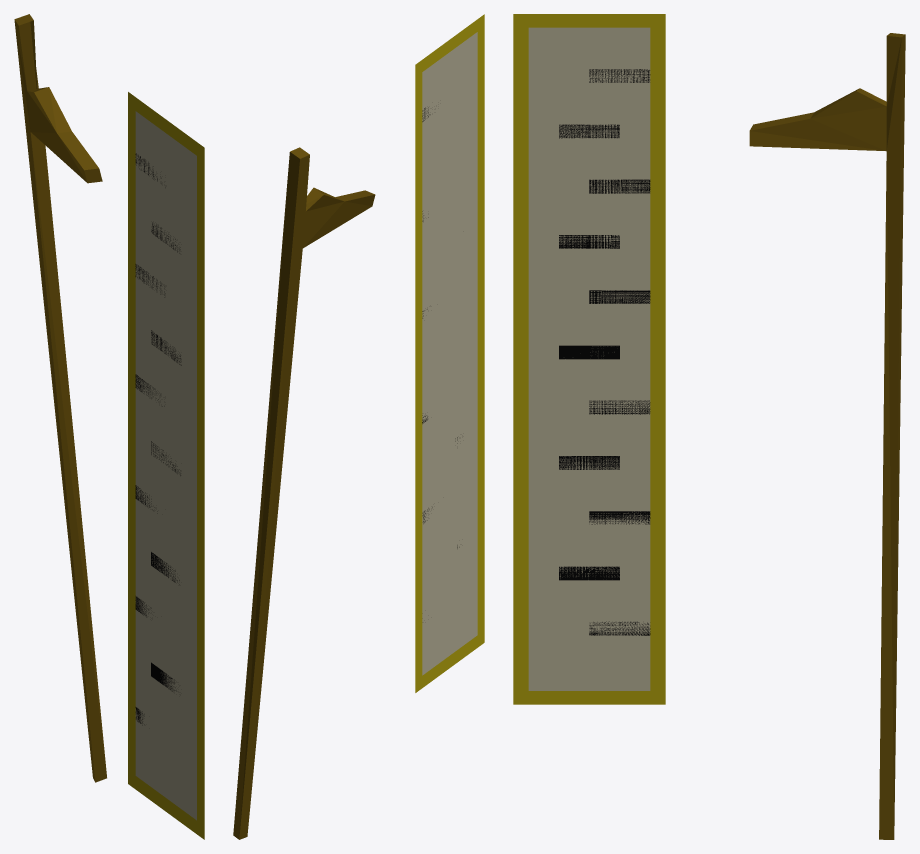
File: obj_clothes_equipment_0.obj
3 views of the same model, side by side, from view 1: azimuth 30°, elevation 25°; view 2: azimuth 150°, elevation 25°; view 3: azimuth 270°, elevation 25° (orthographic). The views are drawn at different scales.
Bounding box in the file's own units: 0.2031 × 1.78 × 0.8047.
